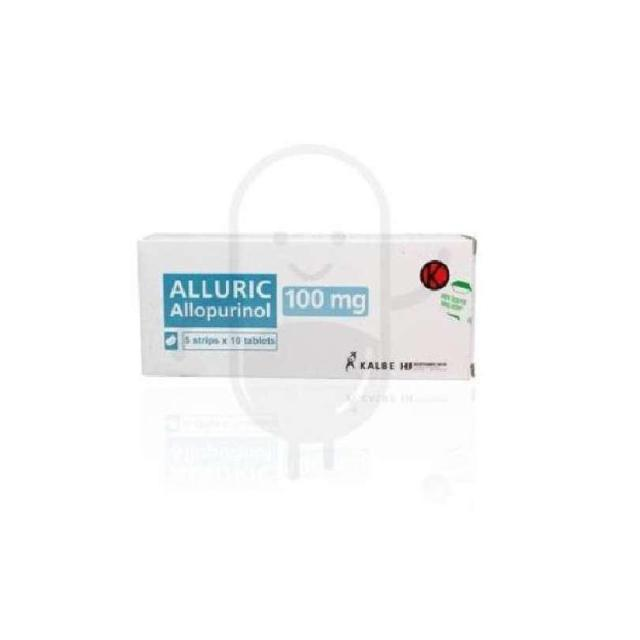drug-name: (168, 276, 276, 300)
